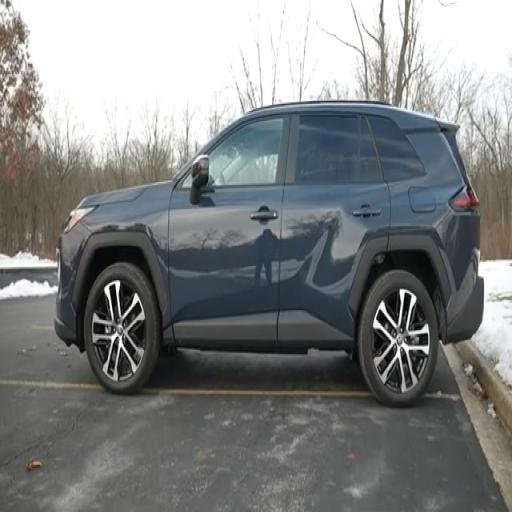bumper: (447, 276, 483, 342), (54, 316, 75, 345)
door: (169, 116, 289, 349), (278, 114, 390, 347)
headlight: (64, 207, 95, 233)
hood: (78, 185, 147, 207)
side_mirror: (191, 156, 208, 204)
tire: (358, 271, 438, 406), (84, 262, 161, 393)
wheel: (358, 271, 438, 406), (84, 264, 161, 393)
window: (209, 119, 283, 187), (296, 116, 359, 184), (368, 117, 424, 182), (358, 117, 382, 183)
